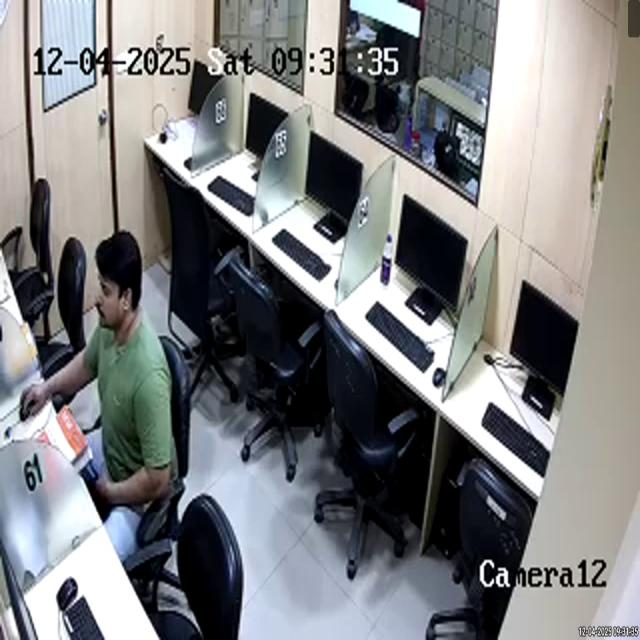phone: (84, 457, 104, 481)
